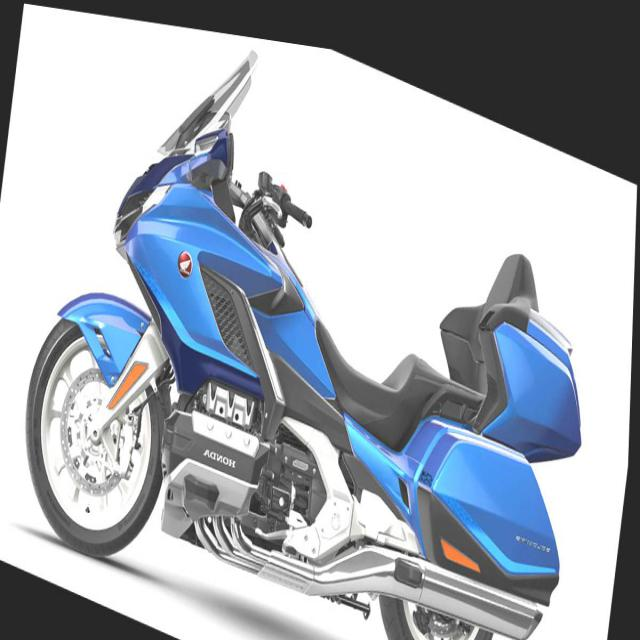Gold Wing: (12, 3, 617, 639)
